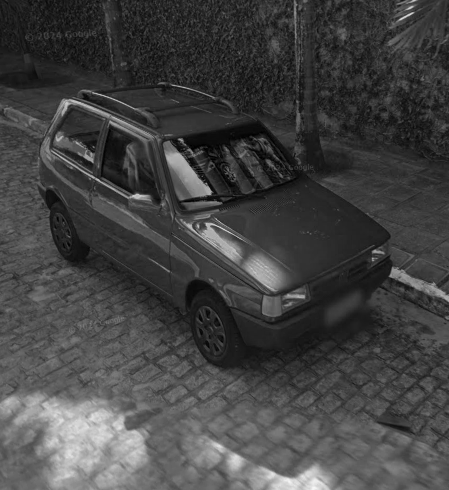car: (35, 78, 394, 370)
